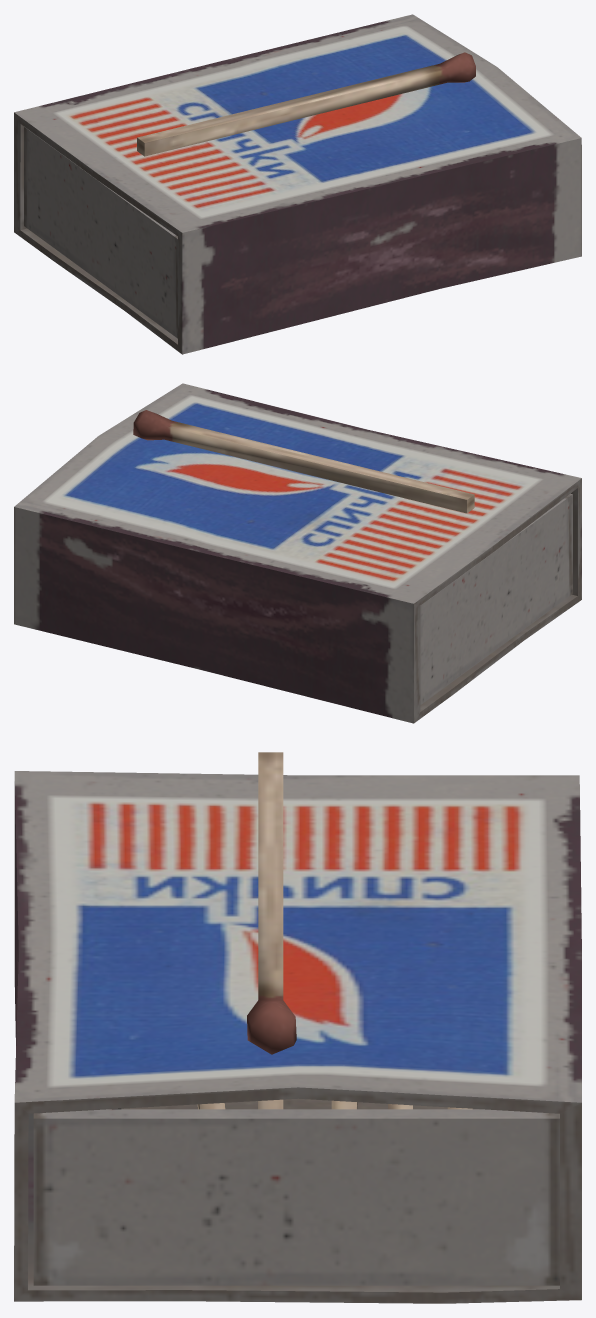
The model's file is matches.fbx.
The picture shows the model from 3 angles, top to bottom: view 1: azimuth 30°, elevation 25°; view 2: azimuth 150°, elevation 25°; view 3: azimuth 270°, elevation 25°; orthographic projection. The views are drawn at different scales.
Parts seen in each view (by area): view 1: matchbox, matchbox_tray, match_out; view 2: matchbox, matchbox_tray, match_out; view 3: matchbox, matchbox_tray, match_out.
Boxes of the visible parts, x1,y1,x2,y2 form: matchbox: (14,14,581,354); matchbox_tray: (24,126,177,338); match_out: (137,52,475,156); matchbox: (14,383,581,723); matchbox_tray: (420,493,572,704); match_out: (133,410,474,513); matchbox: (14,771,581,1303); matchbox_tray: (33,1098,559,1285); match_out: (247,752,296,1054).
Size of the model in its own units: 0.05 by 0.019 by 0.0367.
